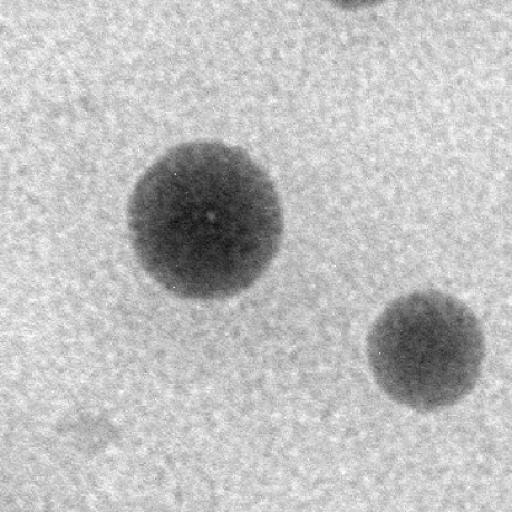Nanoparticles: (124, 136, 288, 306), (362, 284, 493, 416)
